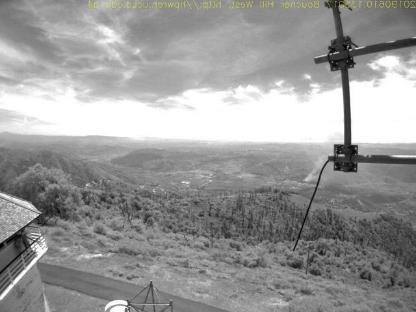smoke: (303, 141, 333, 185)
